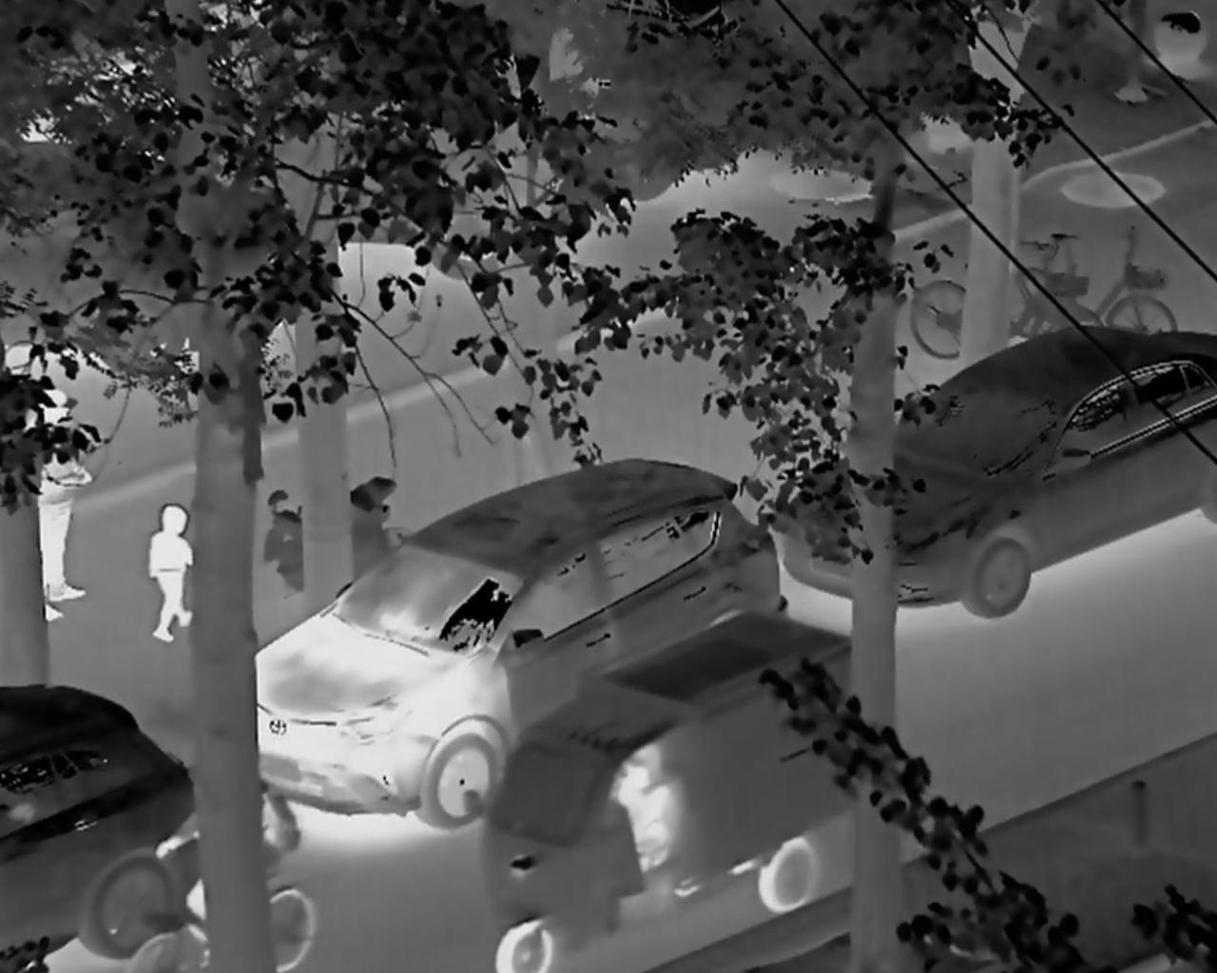person: (145, 501, 200, 643)
